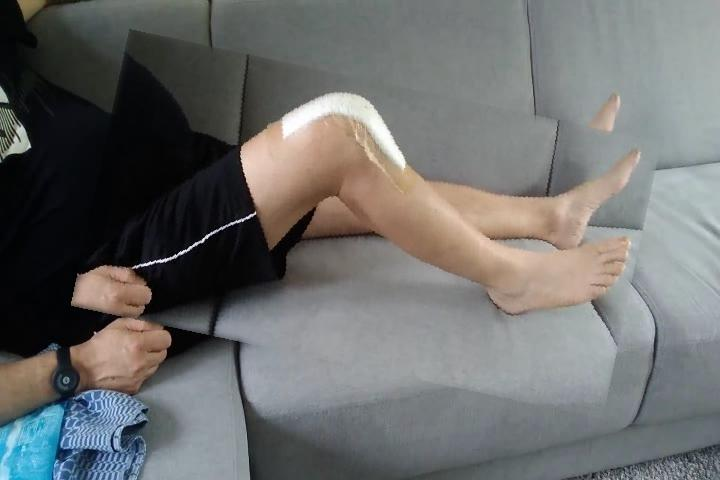lower_body: (84, 57, 650, 392)
